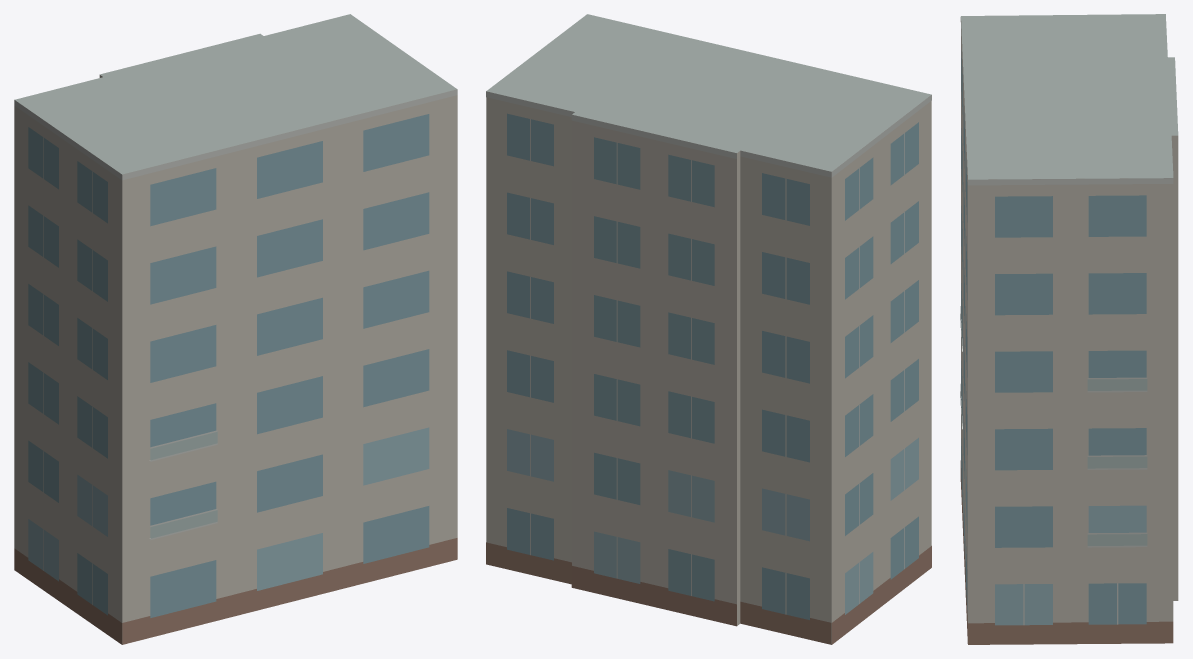
Rendered from survey-upis-32997806.glb.
3 renders of one model, left to right at view 1: azimuth 30°, elevation 25°; view 2: azimuth 150°, elevation 25°; view 3: azimuth 270°, elevation 25°, orthographic.
Parts seen in each view (by area): view 1: survey-upis-32997806.tmp; view 2: survey-upis-32997806.tmp; view 3: survey-upis-32997806.tmp.
Boxes of the visible parts, <box> form: survey-upis-32997806.tmp: <box>14,14,457,644</box>; survey-upis-32997806.tmp: <box>486,14,931,644</box>; survey-upis-32997806.tmp: <box>960,14,1178,644</box>.
Size of the model in its own units: 14.97 by 19.6 by 8.32.
